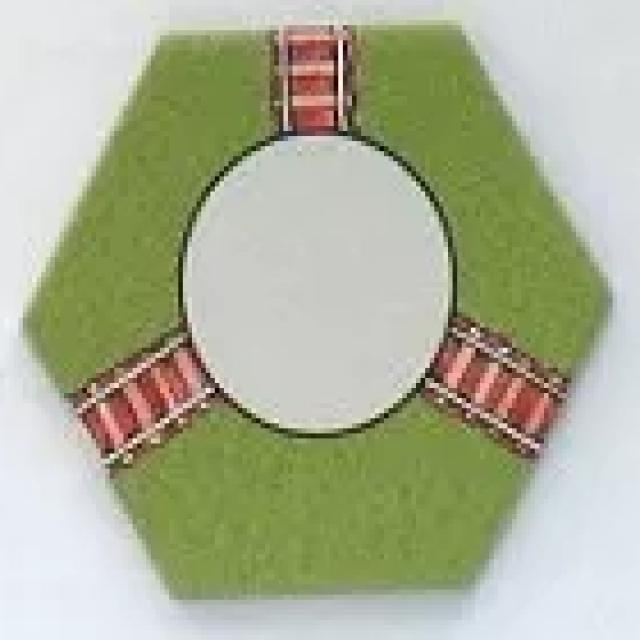11_0: (19, 27, 616, 597)
